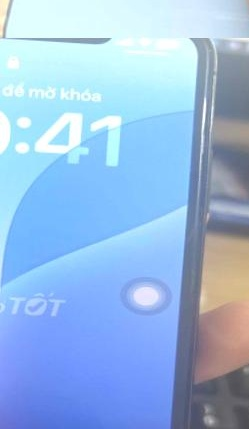scratch: (181, 38, 228, 60)
